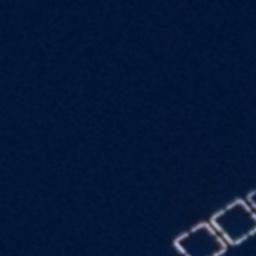square_solid: (204, 194, 256, 252), (167, 216, 234, 256)
